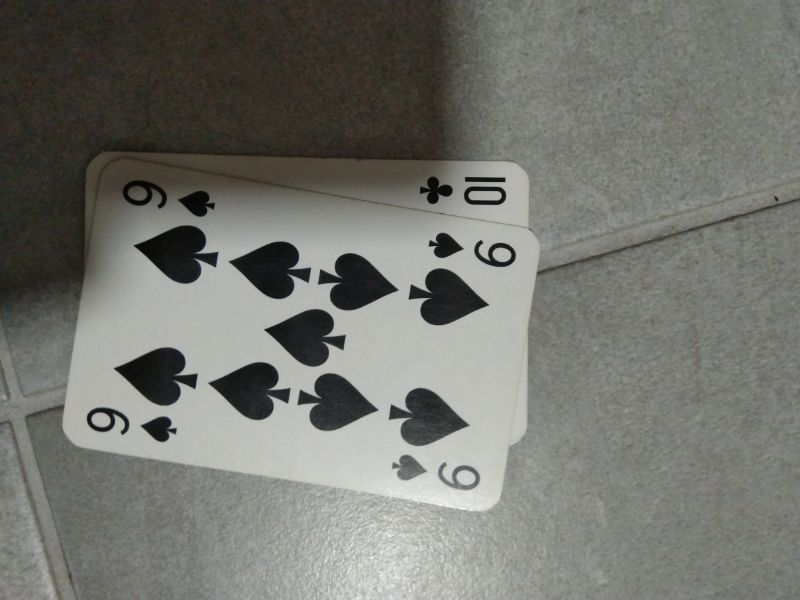9s: (423, 219, 524, 279), (114, 169, 225, 222), (384, 445, 486, 498), (81, 400, 184, 451)
Tc: (414, 165, 516, 213)
